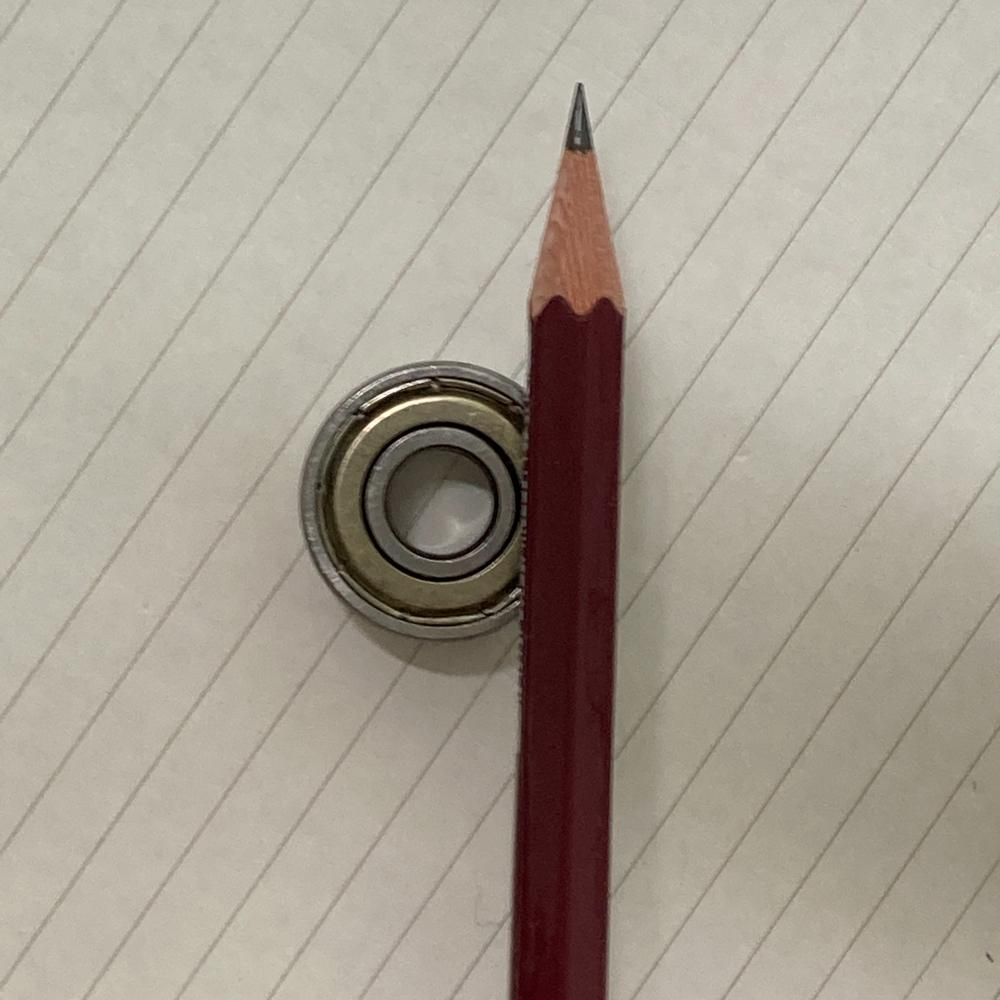ball_bearing: (298, 362, 585, 646)
